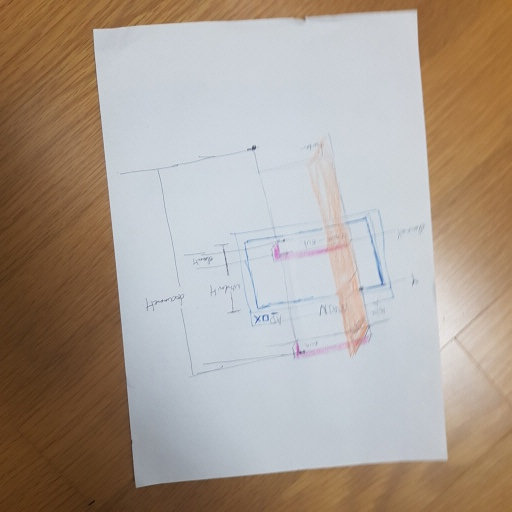Paper_2: (86, 8, 470, 489)
